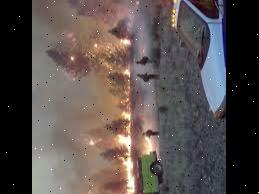fire: (42, 24, 139, 194)
